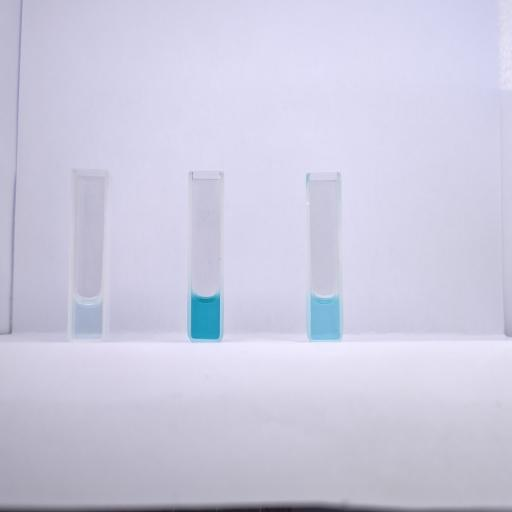cuvette: (67, 165, 111, 344), (304, 170, 345, 342), (186, 169, 226, 343)
liquid: (191, 293, 220, 339), (72, 295, 102, 339), (311, 292, 339, 338)
